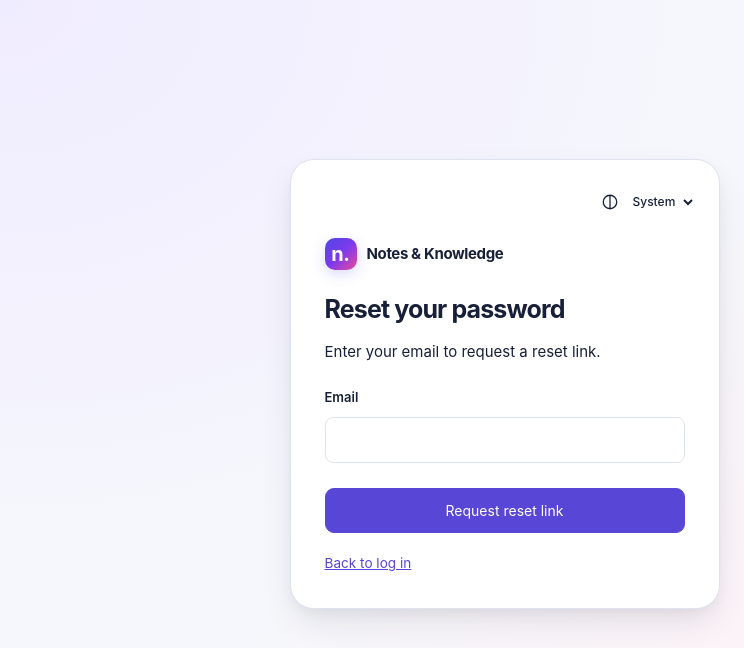
Test case: authentication browser journey › uses blind acceptance for password reset requests
The image size is (744, 648).
Check: the heading "Reset your password" is shown, box [324,294,564,324]
Type "unknown@example.test" into the field labelled "Email" at (504, 440), box [324,417,684,463]
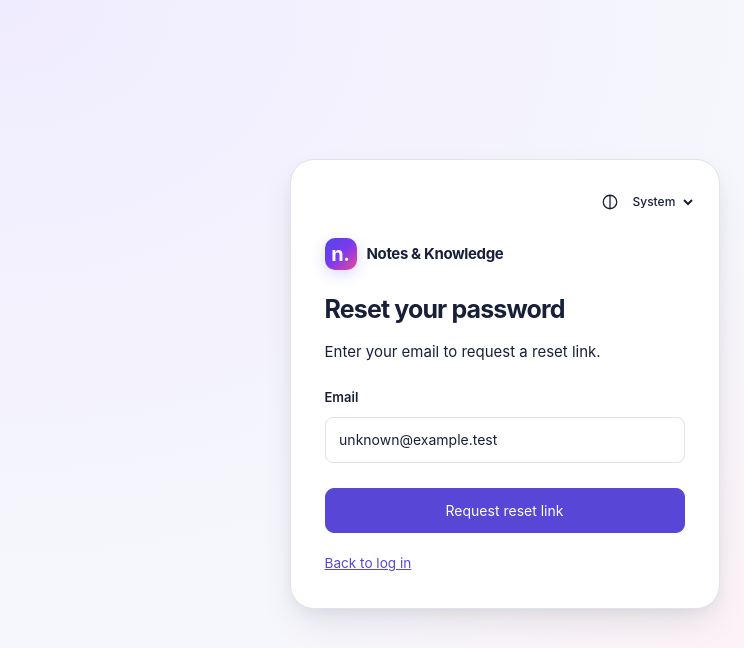
Click the button "Request reset link" at (504, 511), box [324,488,684,533]
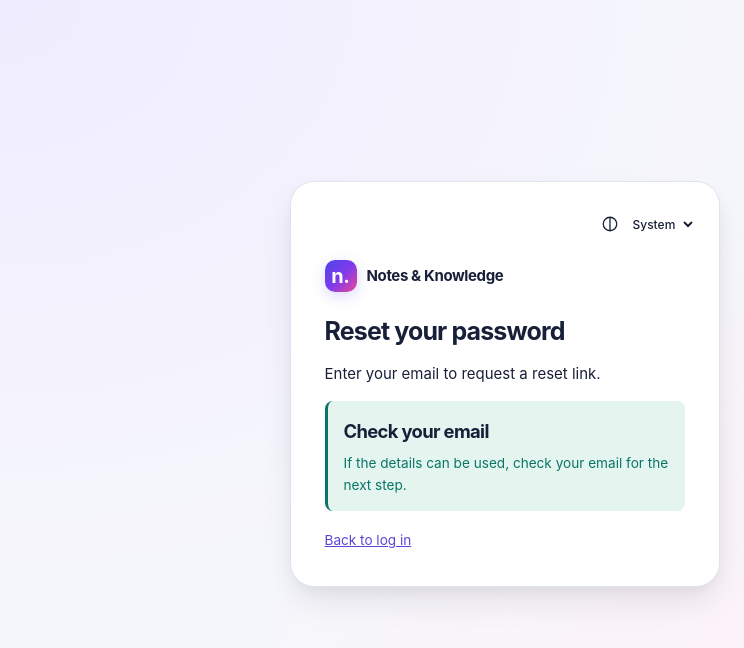
Check: the text "If the details can be used" is shown, box [344,455,668,493]
